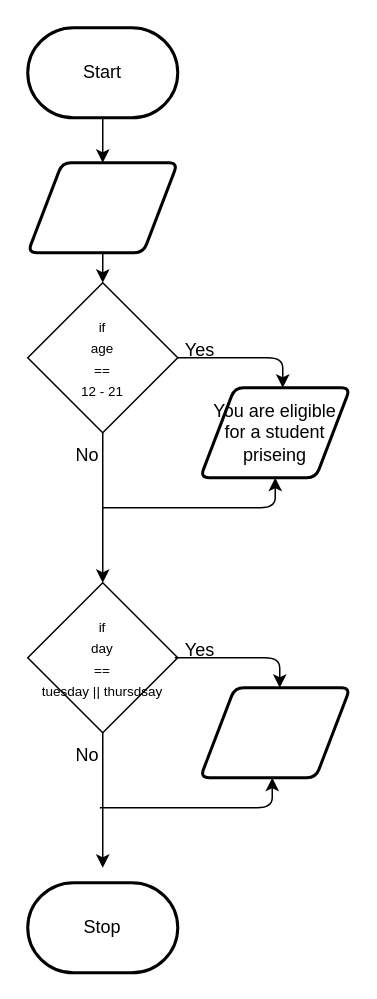
Image size: 377x999. Some labels were removed from this diagram. The centre of each missing label's shape, as x and y in pixels:
"Get inpuit" goes at (x=102, y=207).
"You must pay regular priseing" goes at (x=274, y=732).
